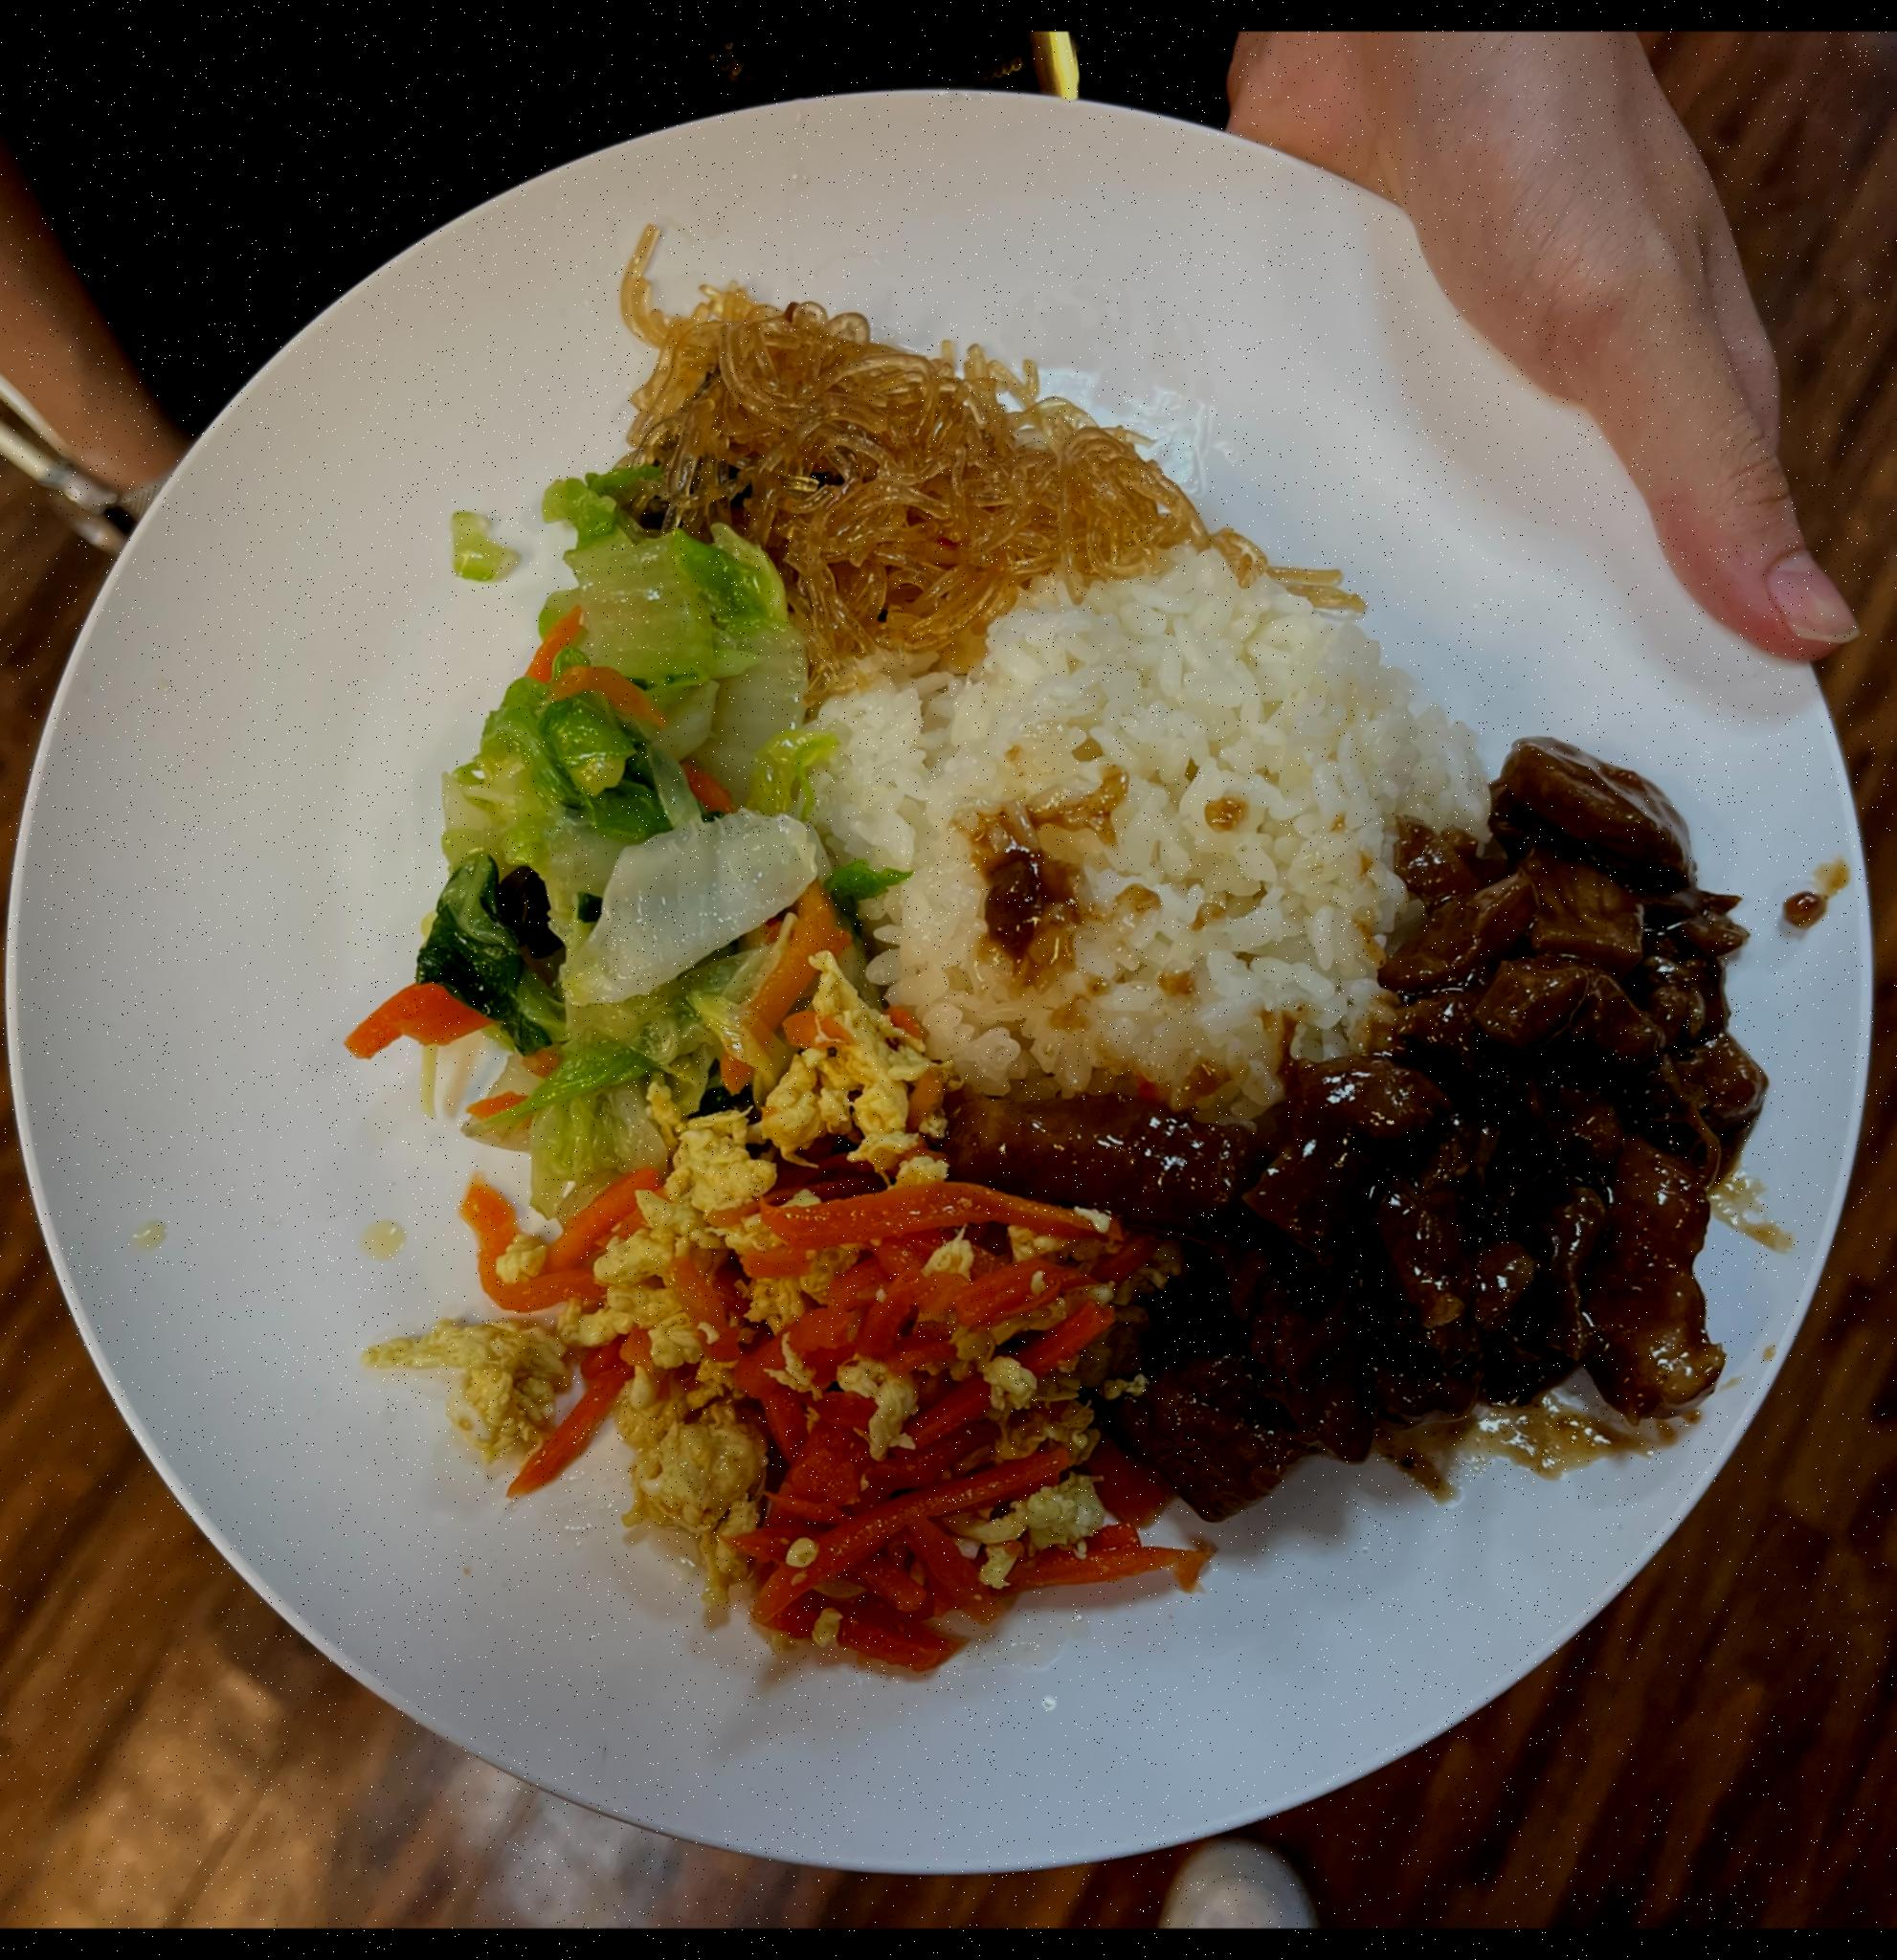big fried chicken leg: (0, 84, 1871, 1890)
big herbal chicken leg: (838, 527, 1423, 1202)
braised fish fillet: (465, 1032, 1193, 1645), (642, 259, 1218, 710), (427, 516, 835, 1141)
braised pork: (945, 731, 1752, 1531)
